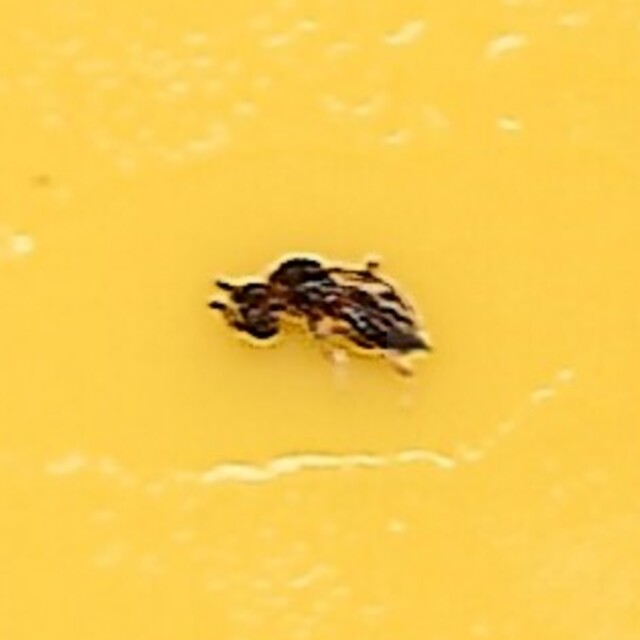Brachycera: (203, 253, 437, 387)
